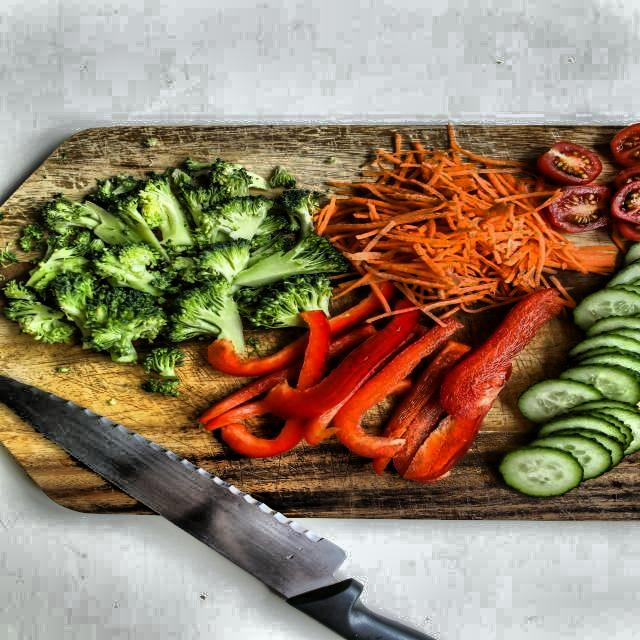knife: (4, 367, 460, 640)
